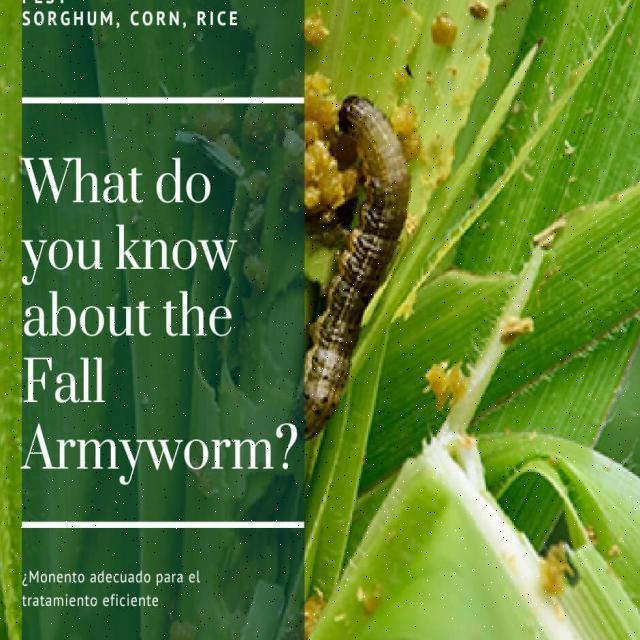army worm: (296, 61, 451, 465)
